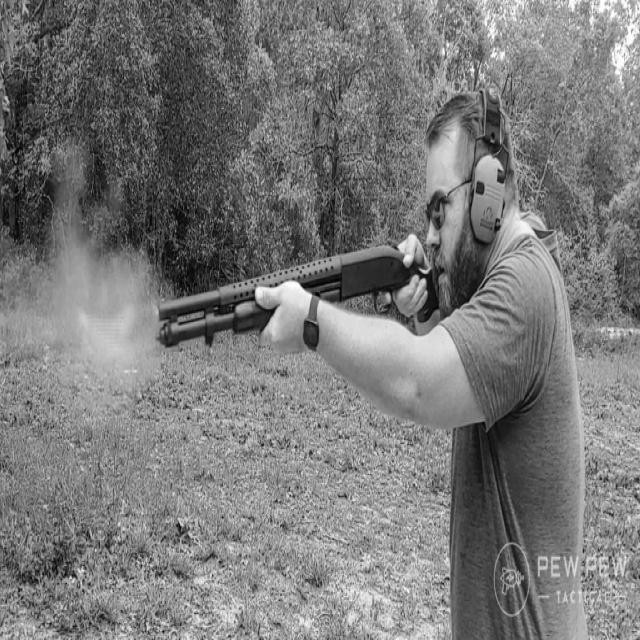Short-Gun: (140, 264, 450, 361)
